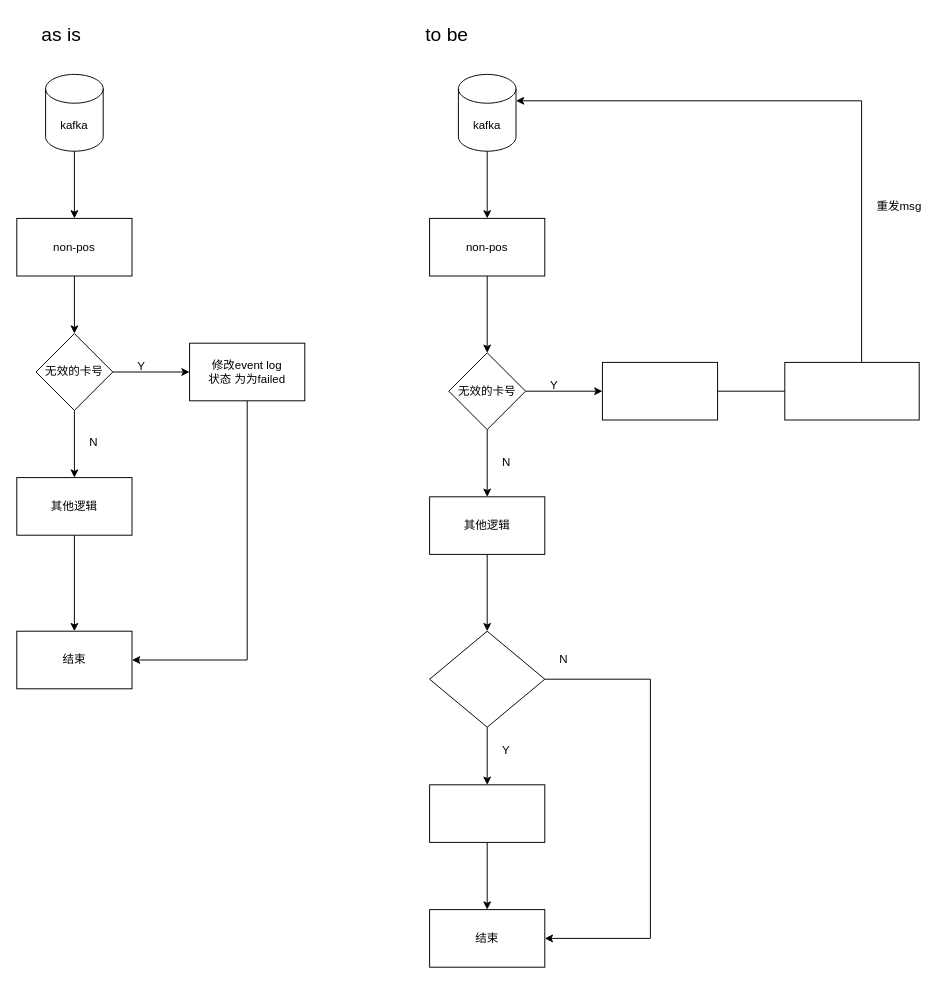
The diagram is 946 pixels wide and 984 high, and some of its shapes have lost their labels. Each missing label, with the centre of its shape:
"uuid R- 前缀 ?" belongs at pixel 487 678.
"修改event log 状态 为failed" belongs at pixel 659 390.
"修改event_log之前UUID的状态由failed变为RP" belongs at pixel 487 813.
"清理event data 里的 member id /point 信息，uuid 改为 R- 前缀" belongs at pixel 851 390.
